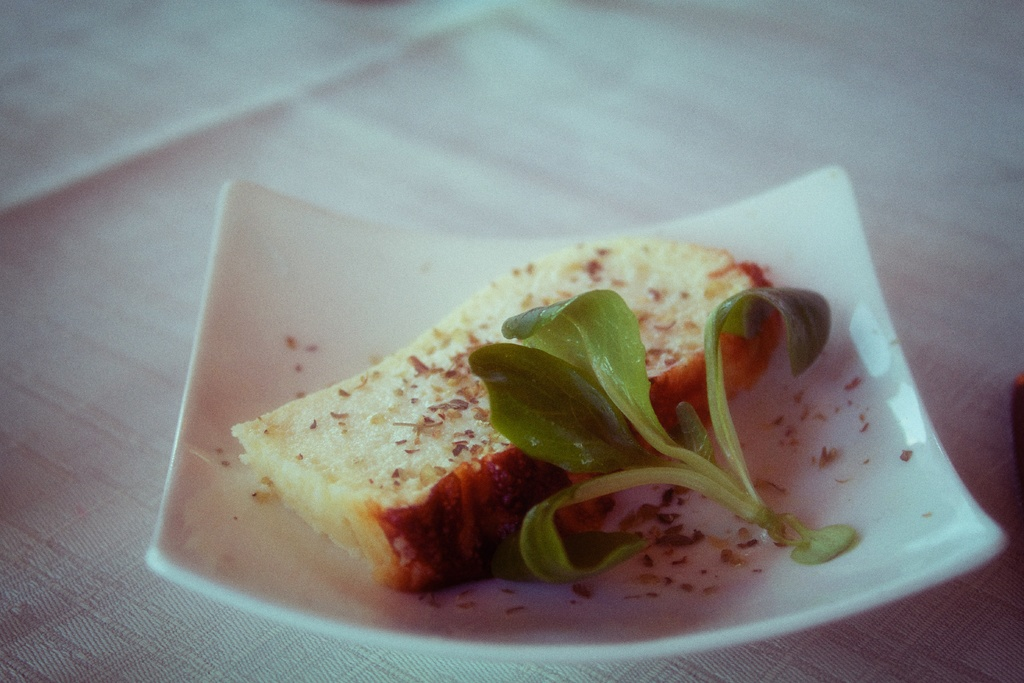plate: (144, 163, 1008, 661)
